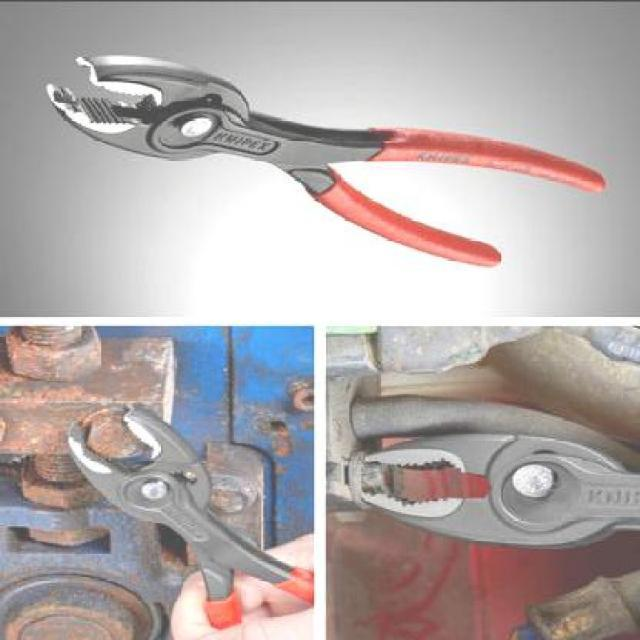pliers: (38, 53, 612, 270)
